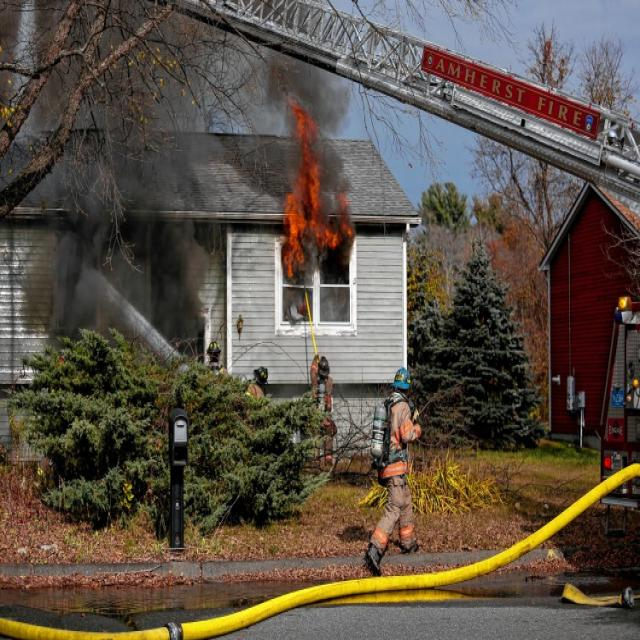fire: (280, 160, 324, 274), (286, 98, 315, 151)
smoke: (59, 181, 198, 300)
